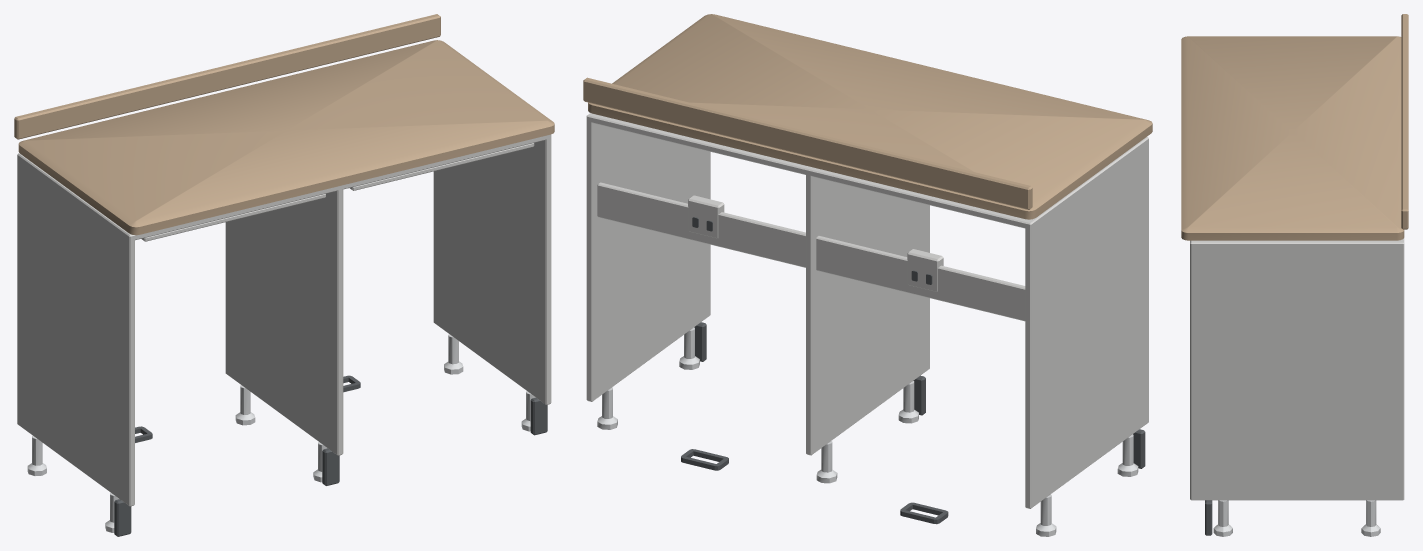
File: home-appliances-and-utility-appliance-housing-frame-12-b2f8f596__14169.glb
The picture shows the model from 3 angles, left to right: view 1: azimuth 30°, elevation 25°; view 2: azimuth 150°, elevation 25°; view 3: azimuth 270°, elevation 25°; orthographic projection. The views are drawn at different scales.
Visible parts, largest first — view 1: appliance-housing-frame-1200; view 2: appliance-housing-frame-1200; view 3: appliance-housing-frame-1200.
Part boxes in pixels (left/top/right/bottom): appliance-housing-frame-1200: left=14, top=14, right=554, bottom=536; appliance-housing-frame-1200: left=583, top=14, right=1152, bottom=536; appliance-housing-frame-1200: left=1181, top=14, right=1408, bottom=536.
Size of the model in its own units: 1.29 by 0.972 by 0.6159.
